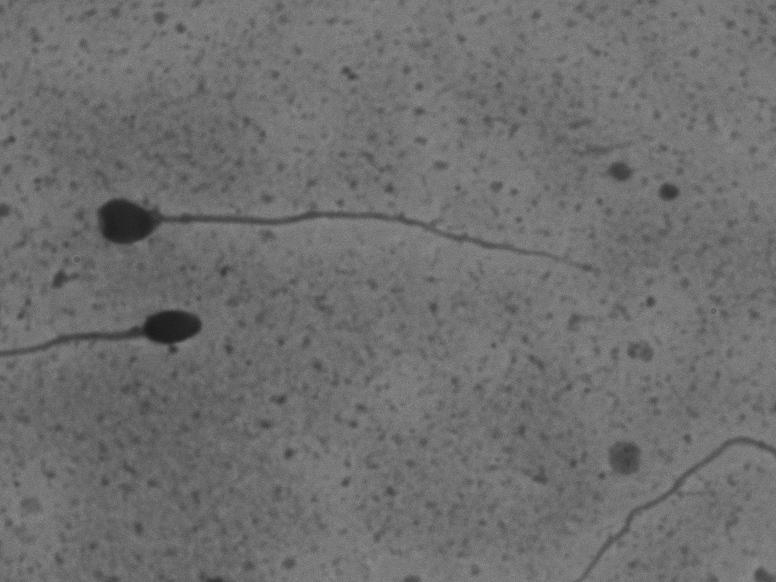Abnormal: (73, 122, 600, 292)
